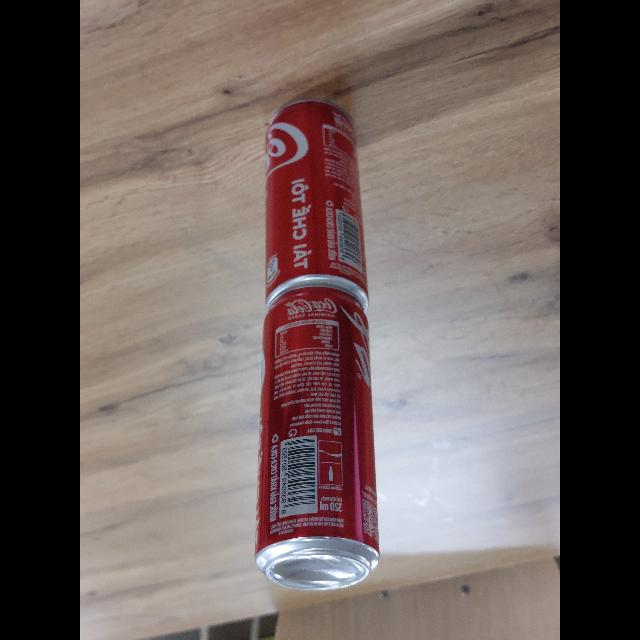coca_cola: (256, 284, 381, 591), (263, 93, 370, 311)
